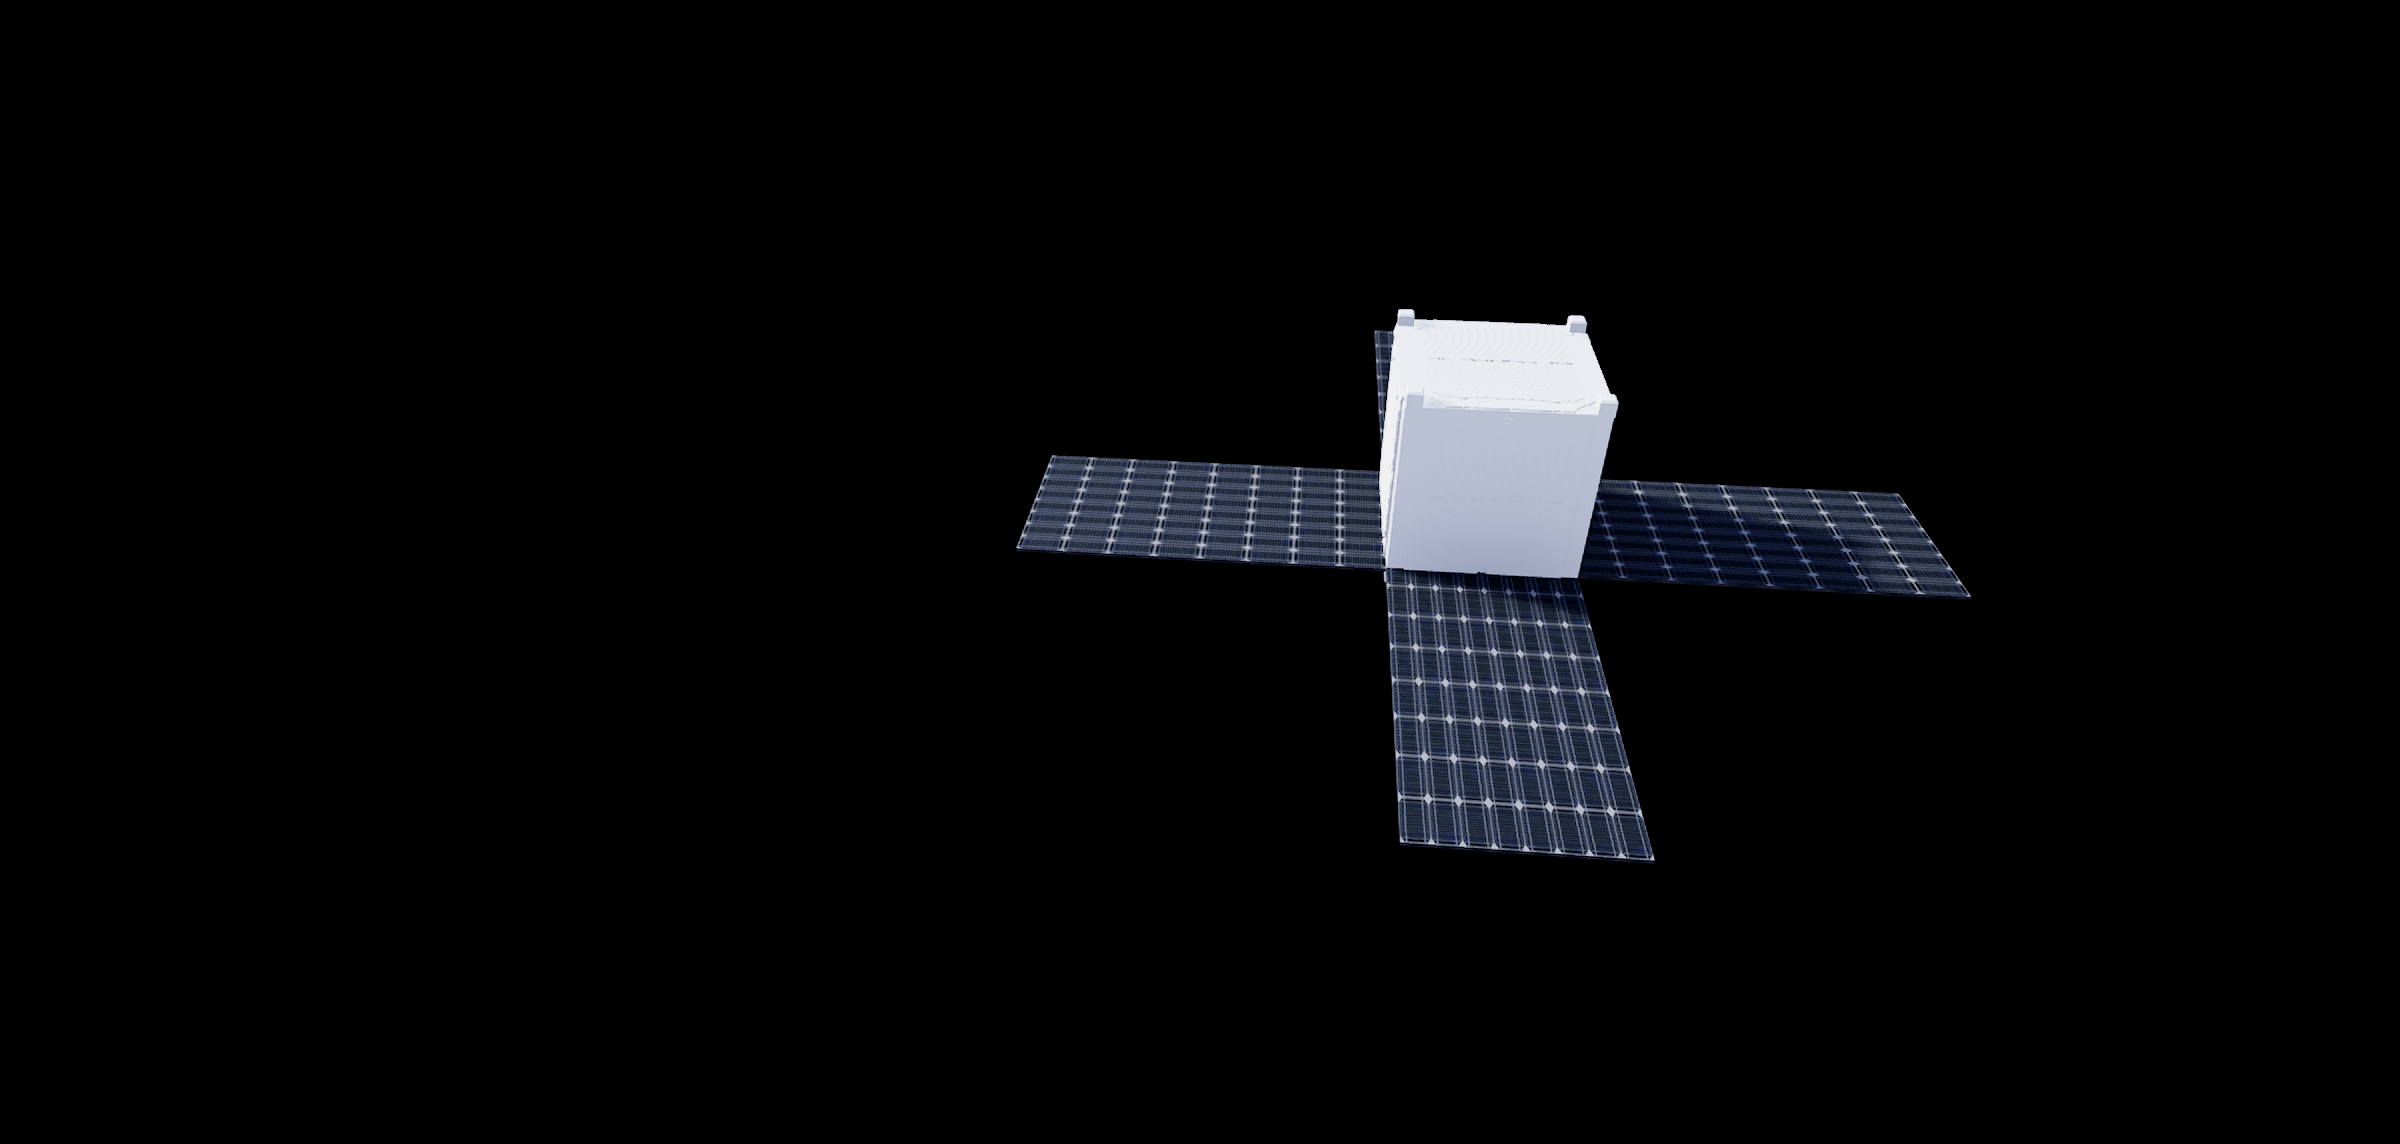satellite: (1001, 247, 1990, 946)
